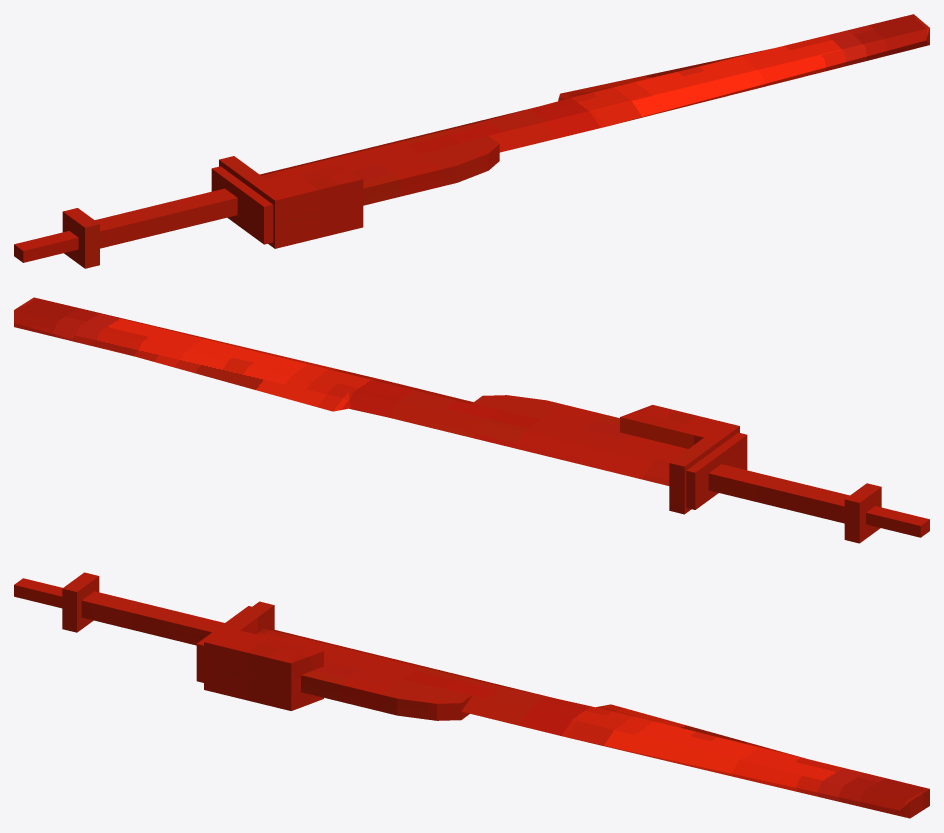
File: SwordMachineSword.fbx
The picture shows the model from 3 angles, top to bottom: view 1: azimuth 30°, elevation 25°; view 2: azimuth 150°, elevation 25°; view 3: azimuth 330°, elevation 25°; orthographic projection.
Visible parts, largest first — view 1: SwordMachineSword; view 2: SwordMachineSword; view 3: SwordMachineSword.
Part boxes in pixels (<box>): SwordMachineSword: <box>14,14,929,268</box>; SwordMachineSword: <box>14,297,929,543</box>; SwordMachineSword: <box>14,572,929,818</box>.
Size of the model in its own units: 6.41 by 0.3257 by 0.7717.
Materials: 1 (1 with a texture image).
